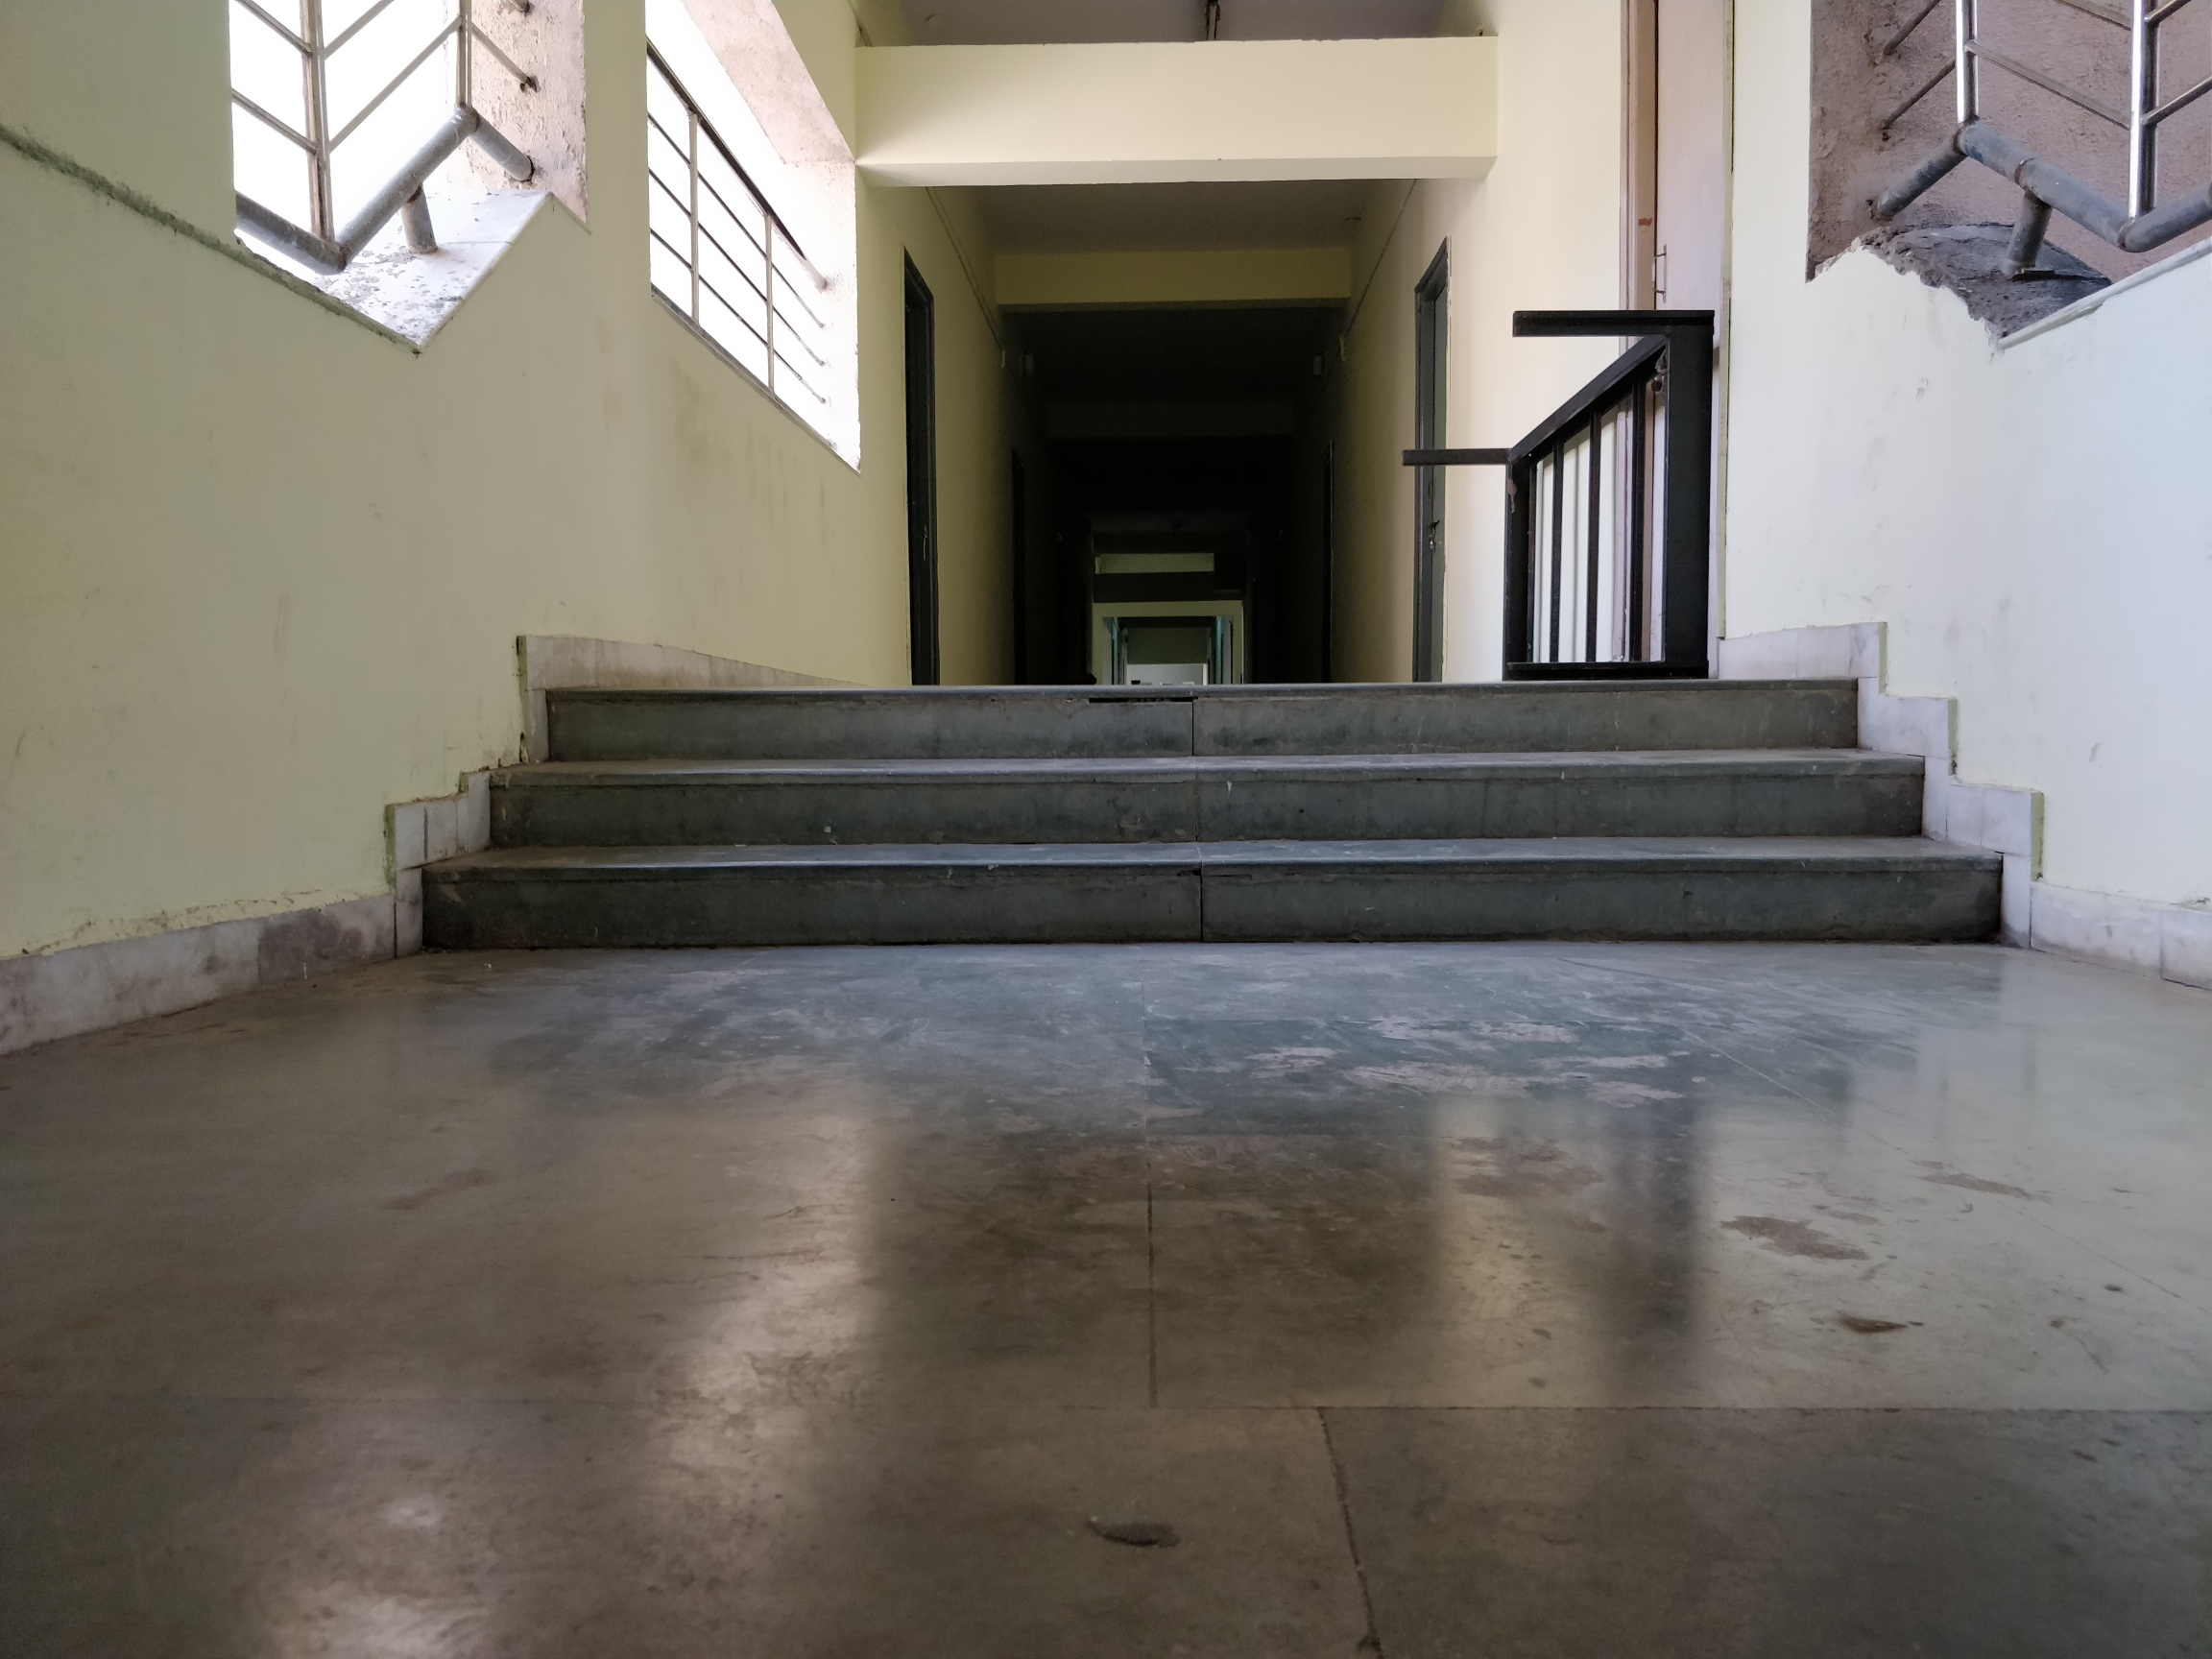stairs_up: (427, 681, 2012, 941)
